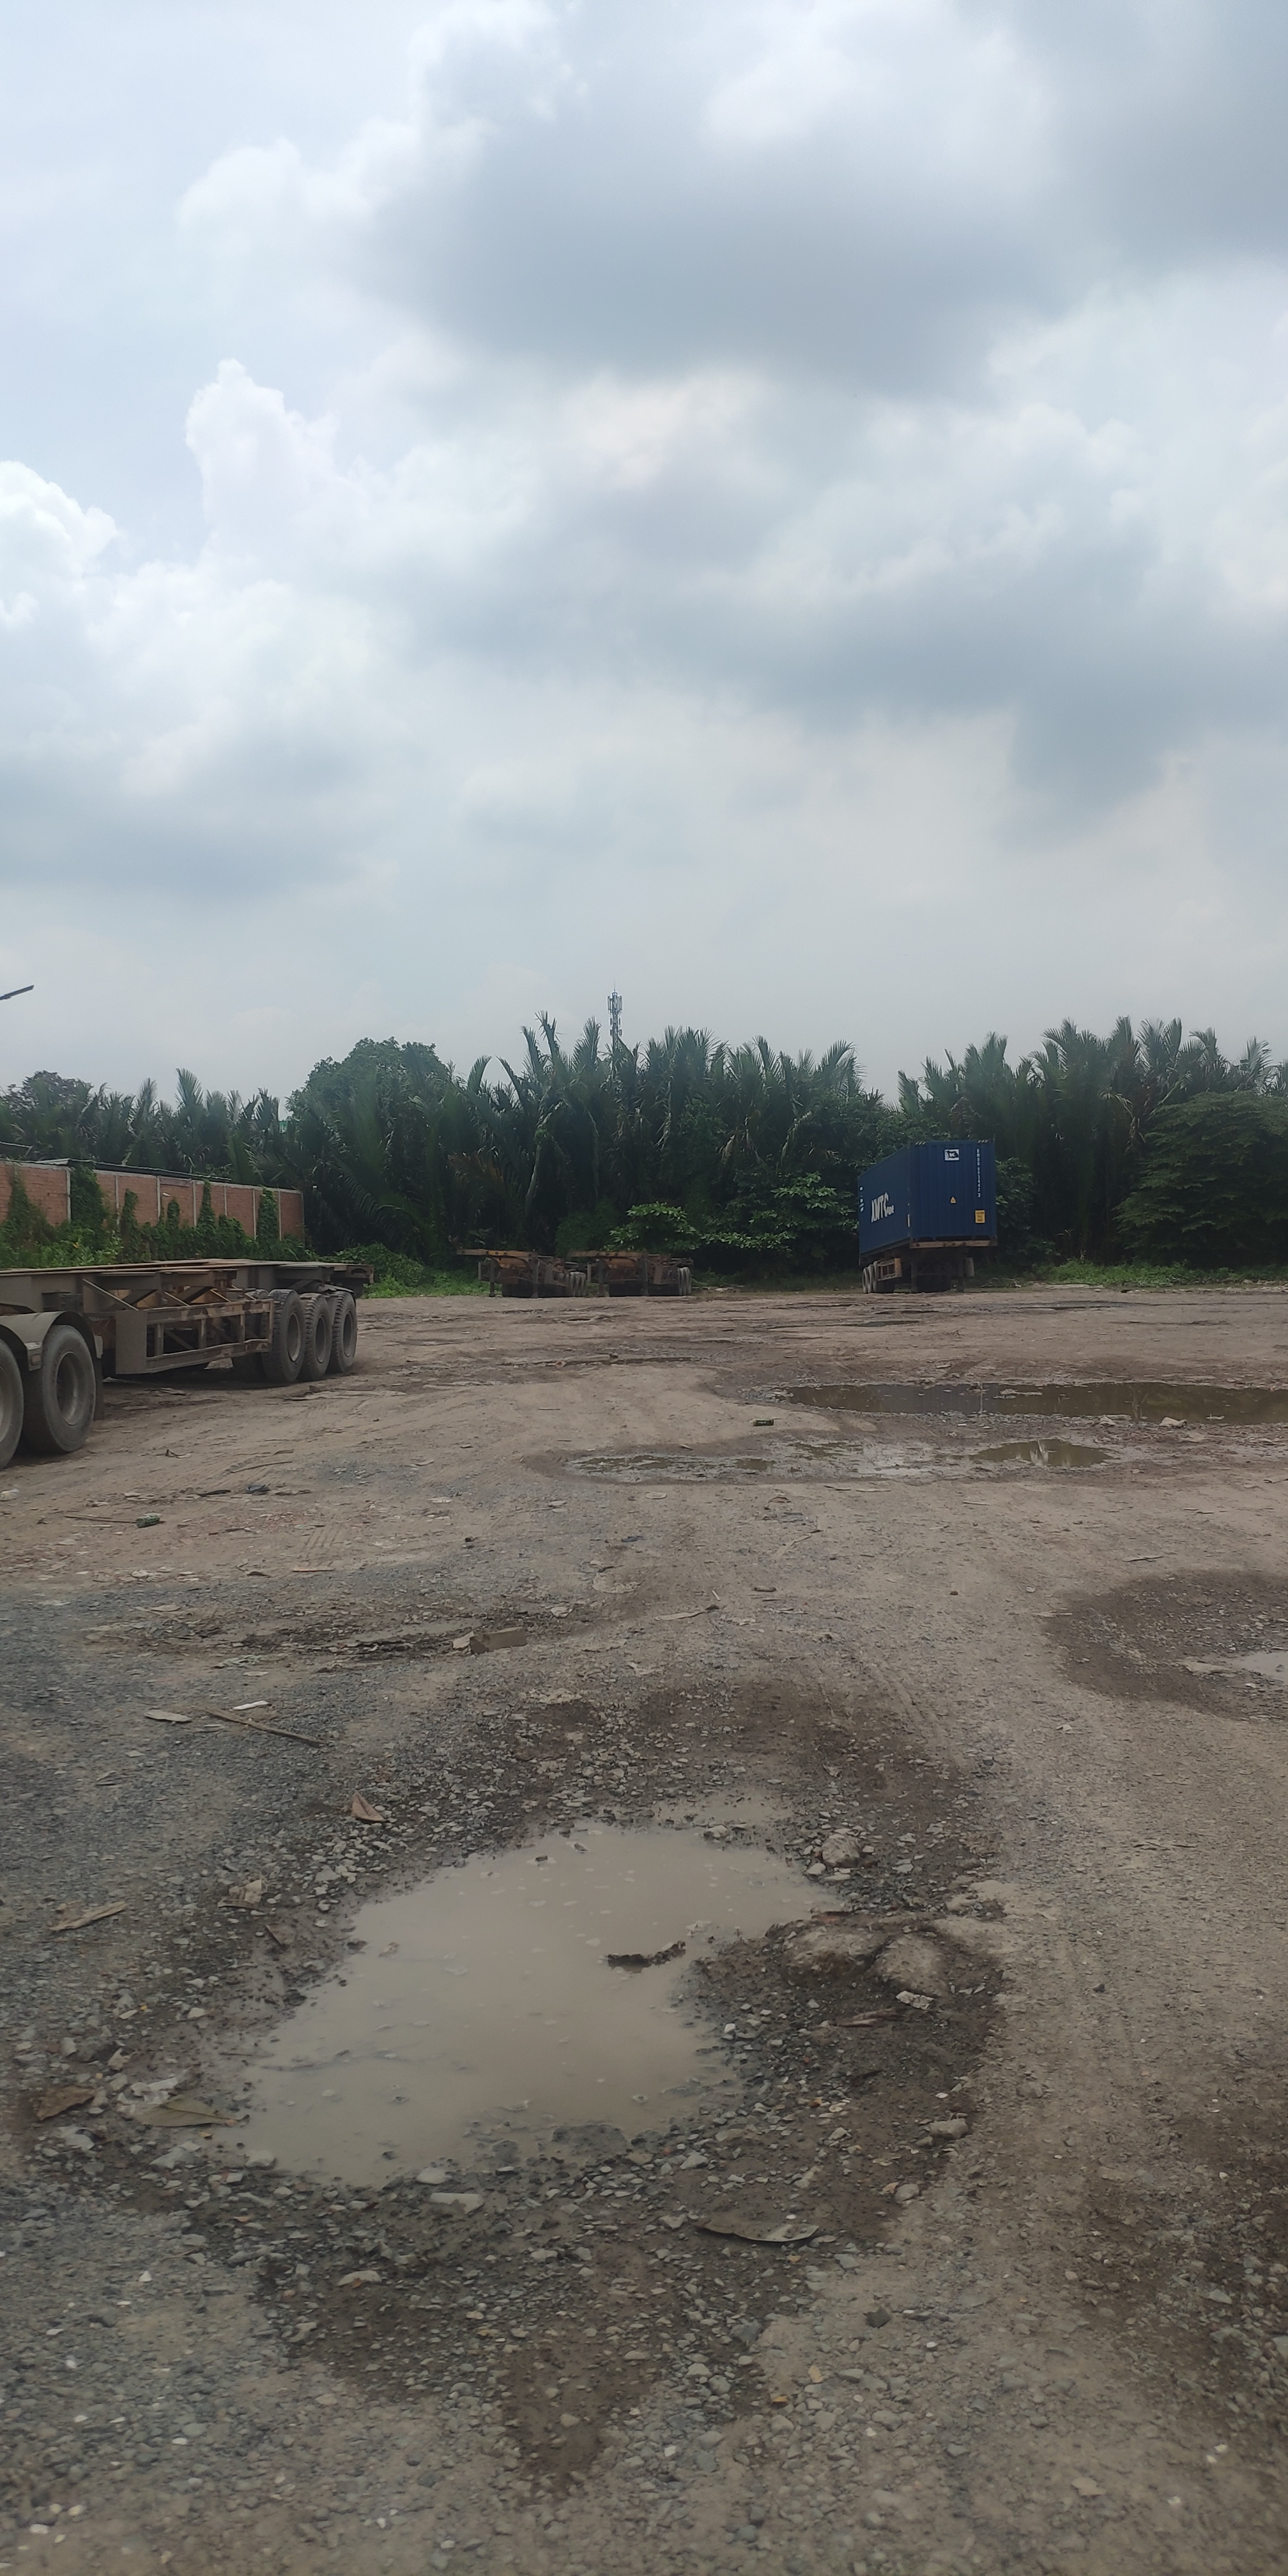hole: (174, 1717, 991, 2226), (99, 1594, 611, 1676), (734, 1377, 1288, 1419), (1119, 1589, 1288, 1705), (537, 1444, 775, 1485), (959, 1429, 1124, 1477), (495, 1355, 713, 1368), (764, 1318, 923, 1334), (780, 1434, 859, 1460), (999, 1301, 1122, 1314), (476, 1306, 552, 1318), (877, 1308, 941, 1314), (568, 1314, 593, 1322)
